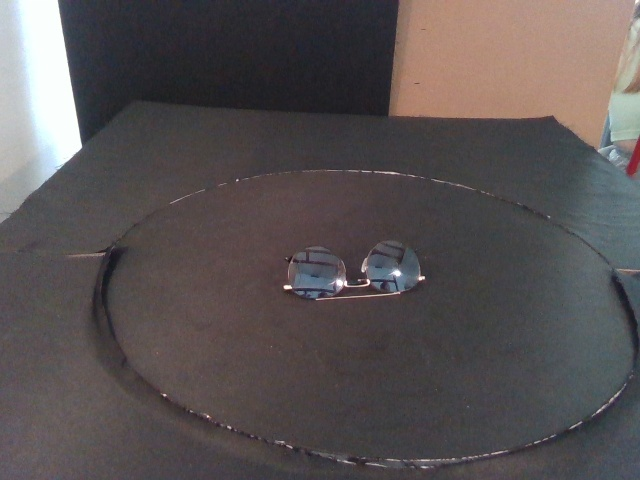glasses: (282, 239, 426, 302)
